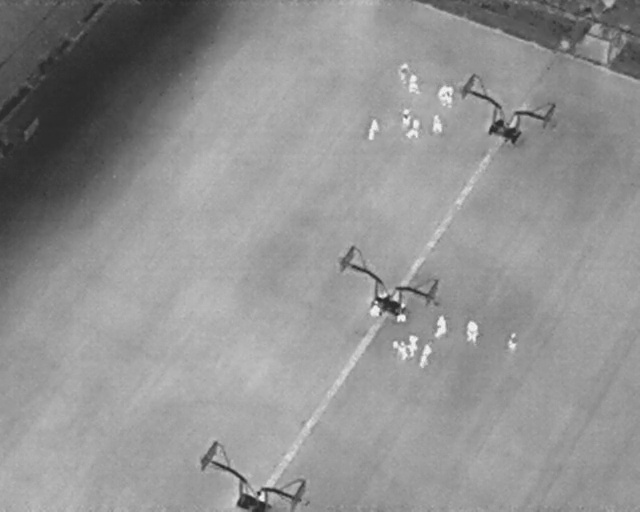Person: (404, 117, 423, 140), (365, 117, 383, 141), (417, 343, 433, 369), (438, 84, 454, 108), (434, 314, 449, 339), (466, 319, 480, 344), (406, 334, 420, 356), (430, 114, 444, 134), (398, 62, 410, 85), (392, 341, 407, 359), (395, 302, 408, 322), (407, 73, 420, 93), (400, 107, 411, 126), (507, 333, 518, 351), (369, 300, 381, 316)
